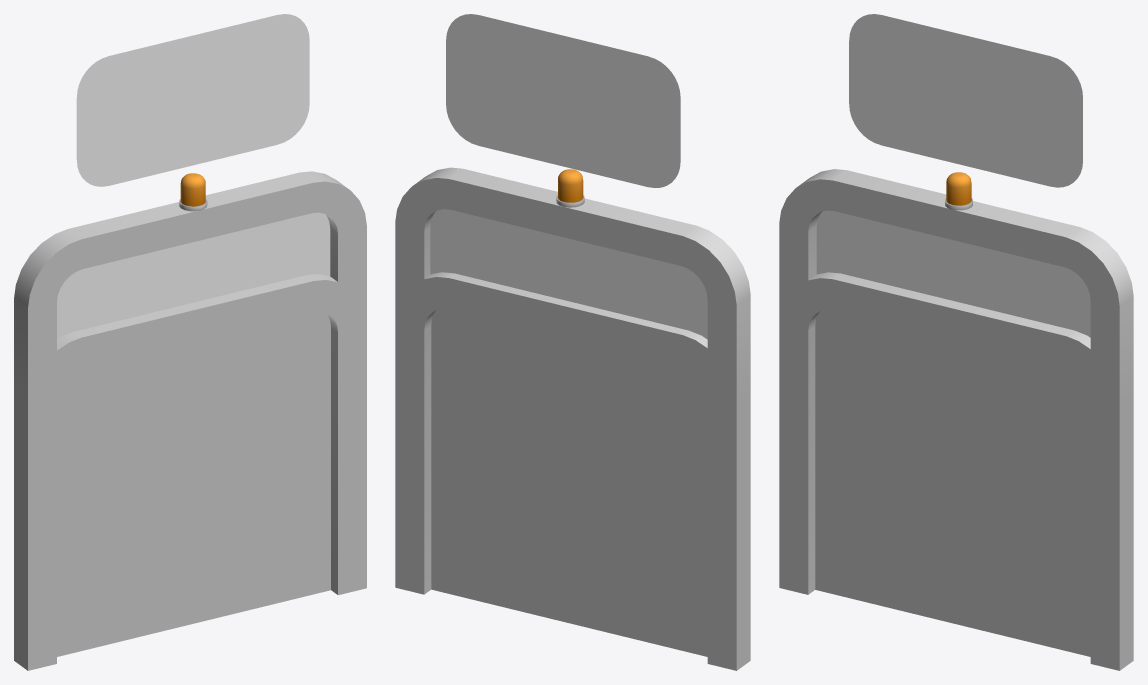
The model's file is baby_boss_kuculme_kapi.fbx.
3 renders of one model, left to right at view 1: azimuth 30°, elevation 25°; view 2: azimuth 150°, elevation 25°; view 3: azimuth 330°, elevation 25°, orthographic.
Visible parts, largest first — view 1: baby_boss_kuculme_kapi_efek, baby_boss_buyume_kapi_kirmizi, baby_boss_kuculme_kapi_icon, baby_boss_kuculme_kapi_siren; view 2: baby_boss_kuculme_kapi_efek, baby_boss_buyume_kapi_kirmizi, baby_boss_kuculme_kapi_icon, baby_boss_kuculme_kapi_siren; view 3: baby_boss_kuculme_kapi_efek, baby_boss_buyume_kapi_kirmizi, baby_boss_kuculme_kapi_icon, baby_boss_kuculme_kapi_siren.
Part boxes in pixels (left/top/right/bottom): baby_boss_kuculme_kapi_efek: left=57, top=311, right=330, bottom=656; baby_boss_buyume_kapi_kirmizi: left=14, top=171, right=366, bottom=670; baby_boss_kuculme_kapi_icon: left=76, top=14, right=309, bottom=186; baby_boss_kuculme_kapi_siren: left=179, top=173, right=207, bottom=211; baby_boss_kuculme_kapi_efek: left=431, top=308, right=707, bottom=656; baby_boss_buyume_kapi_kirmizi: left=395, top=167, right=750, bottom=670; baby_boss_kuculme_kapi_icon: left=446, top=14, right=680, bottom=187; baby_boss_kuculme_kapi_siren: left=556, top=169, right=584, bottom=207; baby_boss_kuculme_kapi_efek: left=815, top=309, right=1090, bottom=656; baby_boss_buyume_kapi_kirmizi: left=779, top=169, right=1133, bottom=670; baby_boss_kuculme_kapi_icon: left=849, top=14, right=1082, bottom=187; baby_boss_kuculme_kapi_siren: left=945, top=172, right=972, bottom=210.
Bounding box in the file's own units: 2.41 × 3.98 × 0.1748.
